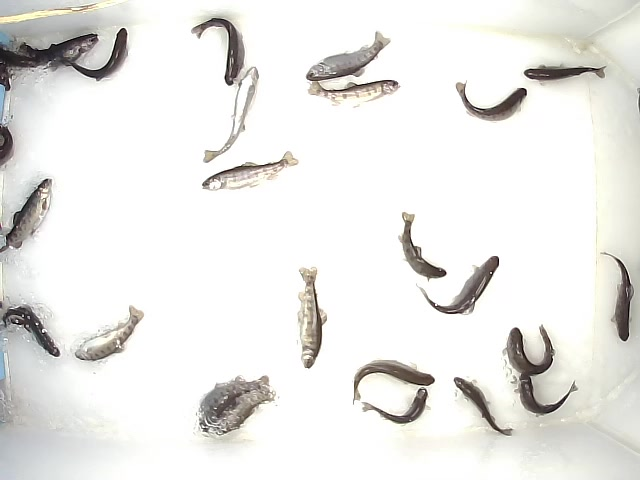fish: (201, 65, 261, 164), (413, 254, 500, 317), (195, 374, 271, 434), (306, 30, 392, 82), (1, 177, 55, 256), (73, 304, 146, 362), (200, 151, 299, 193), (62, 26, 130, 85), (190, 16, 246, 87), (352, 358, 436, 405), (19, 31, 99, 80), (453, 376, 514, 438), (398, 211, 448, 282), (2, 302, 62, 359), (211, 384, 275, 437), (599, 250, 635, 343), (455, 80, 528, 122), (298, 265, 327, 370), (361, 387, 428, 428), (515, 373, 578, 416), (504, 324, 556, 376), (307, 80, 401, 108), (522, 62, 608, 85)
